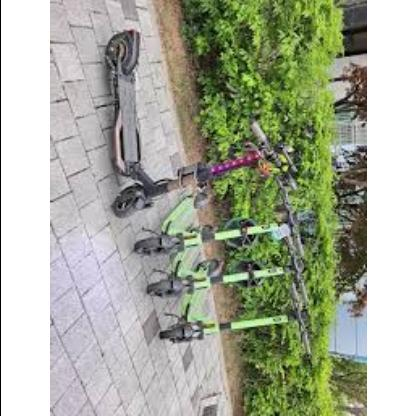bike: (102, 27, 312, 375), (103, 28, 302, 220)
